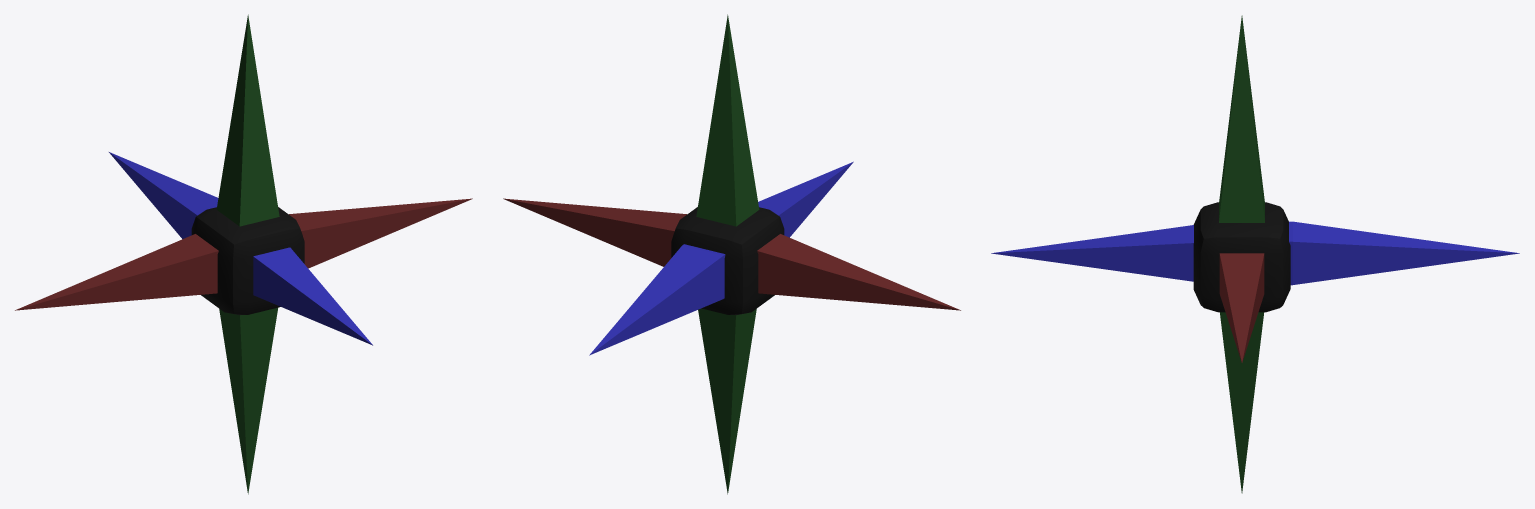
File: BRUJULA_3D.dae
The picture shows the model from 3 angles, left to right: view 1: azimuth 30°, elevation 25°; view 2: azimuth 150°, elevation 25°; view 3: azimuth 270°, elevation 25°; orthographic projection.
Visible parts, largest first — view 1: pCube1, pCube4, pCube5, pCube6; view 2: pCube1, pCube4, pCube5, pCube6; view 3: pCube5, pCube1, pCube6, pCube4.
Part boxes in pixels (<box>): pCube1: <box>216,14,279,494</box>; pCube4: <box>15,198,472,310</box>; pCube5: <box>109,152,372,345</box>; pCube6: <box>191,207,304,315</box>; pCube1: <box>696,14,759,494</box>; pCube4: <box>503,198,960,310</box>; pCube5: <box>589,161,853,355</box>; pCube6: <box>671,207,784,315</box>; pCube5: <box>991,221,1519,285</box>; pCube1: <box>1219,15,1264,493</box>; pCube6: <box>1193,202,1290,312</box>; pCube4: <box>1219,253,1264,362</box>.
Bounding box in the file's own units: 11.09 × 11.09 × 11.09.
